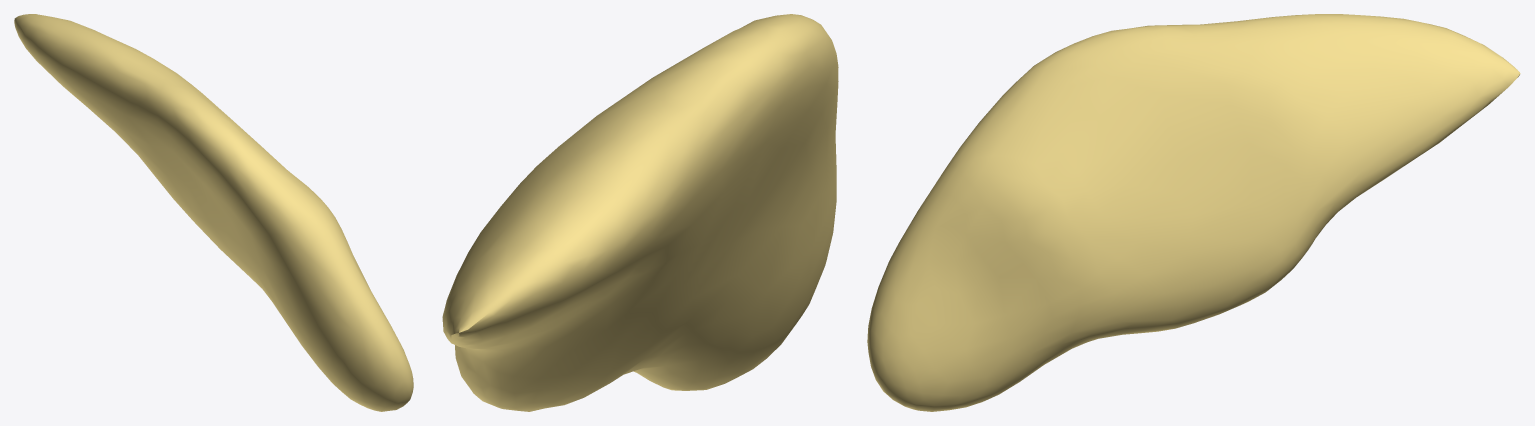
Rendered from fma72982_mm2791m.glb.
The picture shows the model from 3 angles, left to right: view 1: azimuth 30°, elevation 25°; view 2: azimuth 150°, elevation 25°; view 3: azimuth 270°, elevation 25°; orthographic projection. The views are drawn at different scales.
Visible parts, largest first — view 1: FMA72982_MM2791M; view 2: FMA72982_MM2791M; view 3: FMA72982_MM2791M.
Part boxes in pixels (x1,y1,x2,y2): FMA72982_MM2791M: [14, 14, 413, 411]; FMA72982_MM2791M: [442, 14, 838, 411]; FMA72982_MM2791M: [867, 14, 1520, 411].
Bounding box in the file's own units: 0.00228 × 0.00363 × 0.00663.
